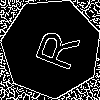R: (25, 23, 81, 74)
